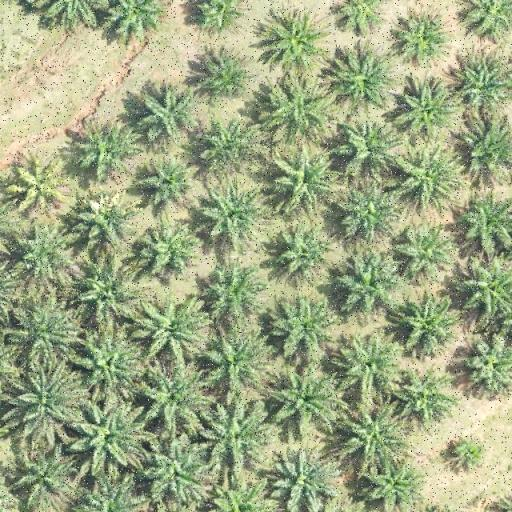Ganoderma: (18, 164, 59, 202), (458, 440, 488, 469)
